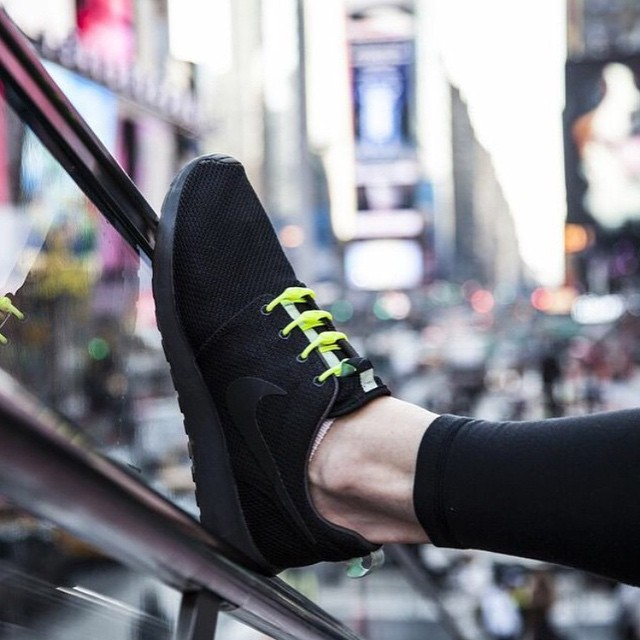sneaker: (128, 139, 447, 596)
